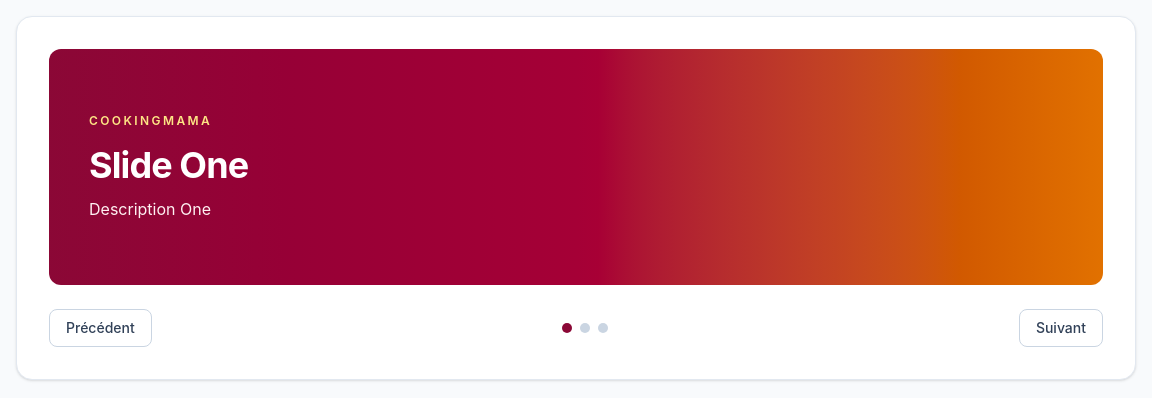
HeroCarousel › goes to next and previous slide
Click the button "Suivant": (1061, 328) [1019,309,1103,347]
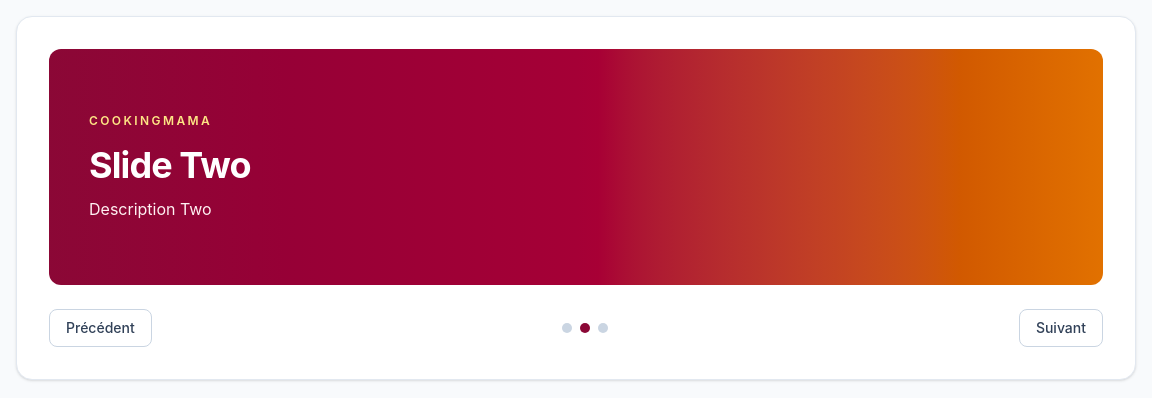
Expected: the heading "Slide Two" is shown, [89,143,251,187]
Click the button "Précédent": (100, 328) [49,309,152,347]
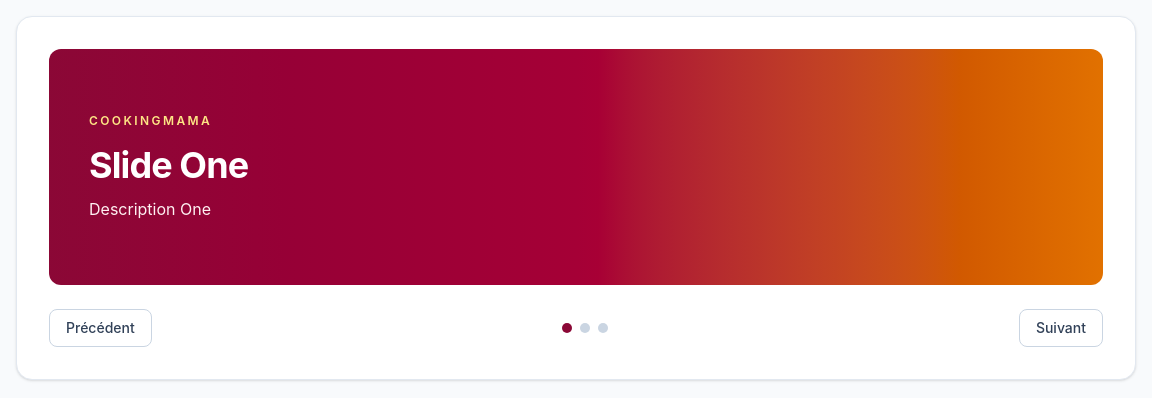
Expected: the heading "Slide One" is shown, [89,143,248,187]
